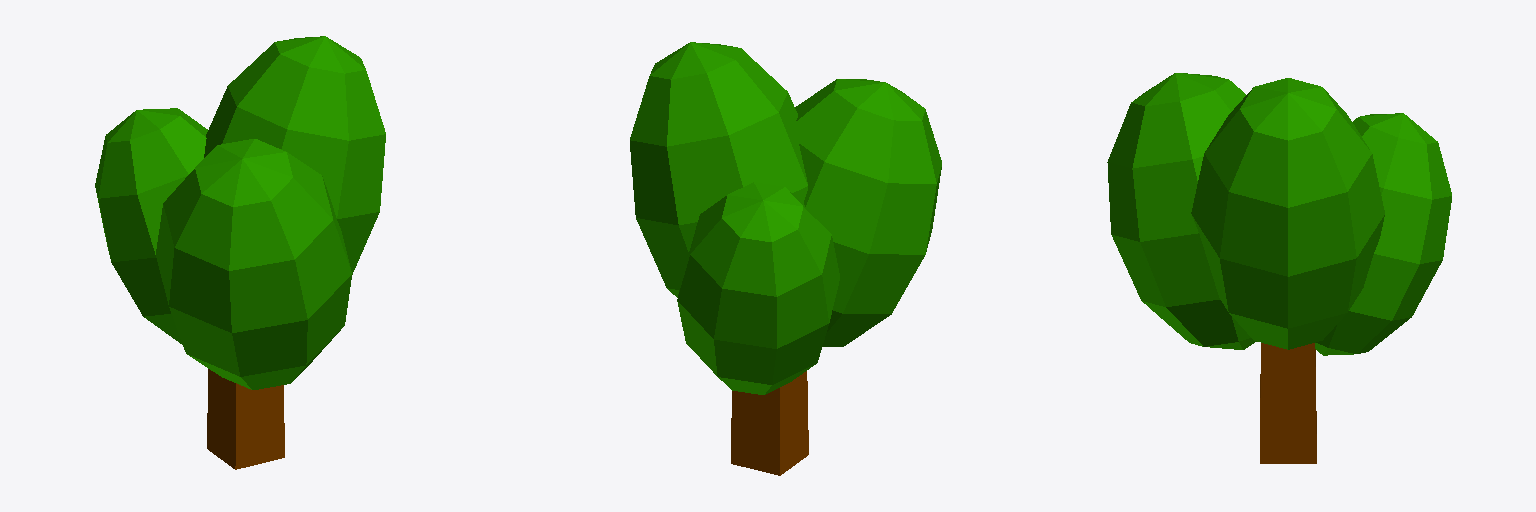
3 renders of one model, left to right at view 1: azimuth 30°, elevation 25°; view 2: azimuth 150°, elevation 25°; view 3: azimuth 270°, elevation 25°, orthographic.
Parts seen in each view (by area): view 1: Tree02; view 2: Tree02; view 3: Tree02.
Part boxes in pixels (bbox=[...]): Tree02: bbox=[95, 36, 385, 469]; Tree02: bbox=[630, 42, 941, 475]; Tree02: bbox=[1107, 73, 1451, 463].
Bounding box in the file's own units: 1.29 × 1.96 × 1.54.
Materials: 1 (1 with a texture image).